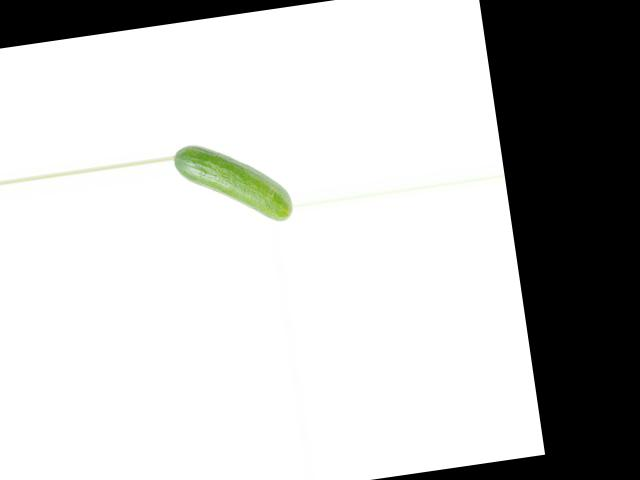cucumber: (170, 131, 294, 234)
